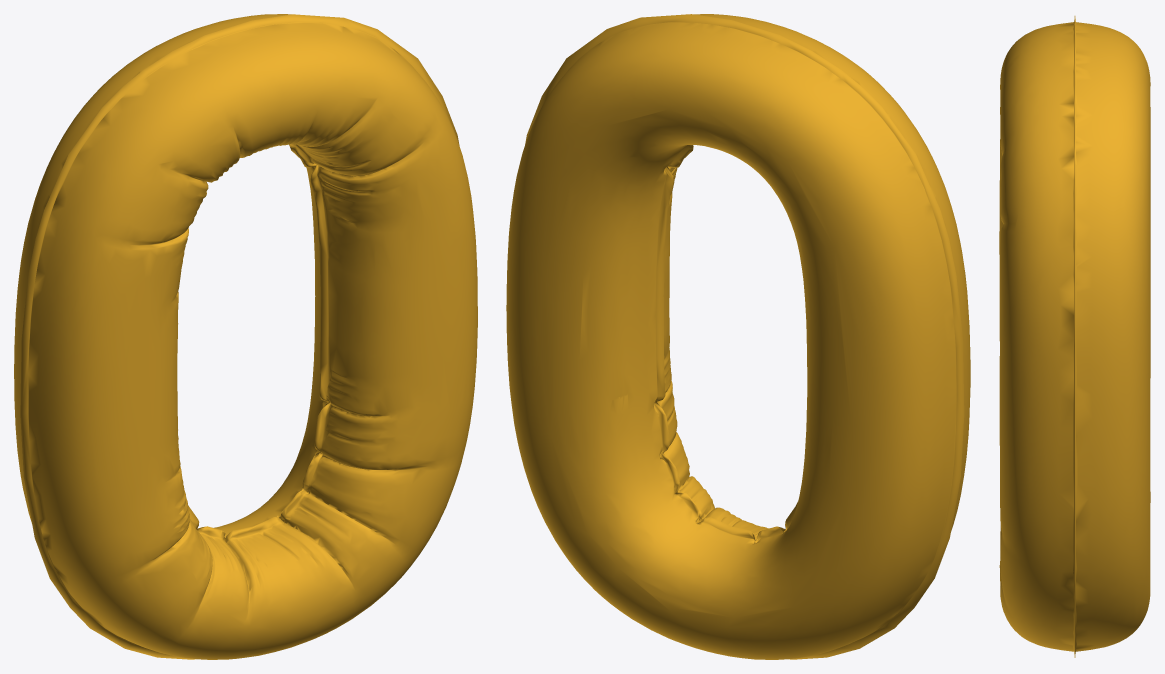
File: zahlen-gold-0-v1.glb
The picture shows the model from 3 angles, left to right: view 1: azimuth 30°, elevation 25°; view 2: azimuth 150°, elevation 25°; view 3: azimuth 270°, elevation 25°; orthographic projection. The views are drawn at different scales.
Parts seen in each view (by area): view 1: 0; view 2: 0; view 3: 0.
Boxes of the visible parts, bbox=[...] form: 0: bbox=[14, 14, 477, 659]; 0: bbox=[506, 14, 970, 659]; 0: bbox=[999, 16, 1150, 657].
Size of the model in its own units: 0.4599 by 0.6139 by 0.1414.
